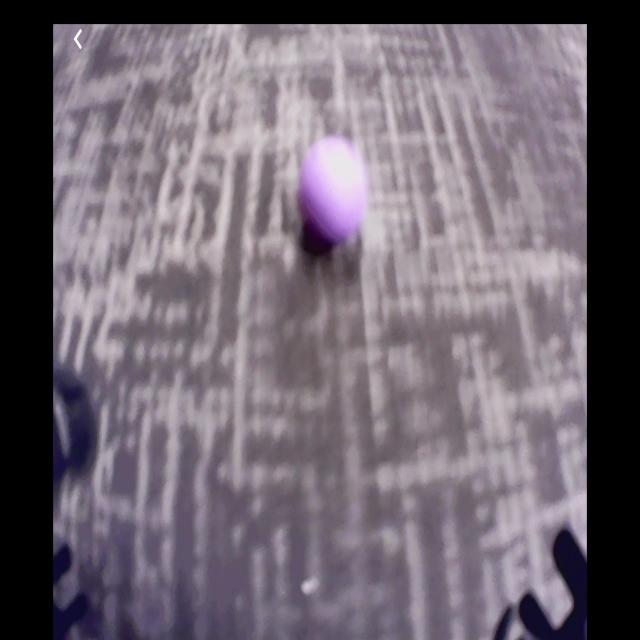ball: (299, 138, 366, 246)
